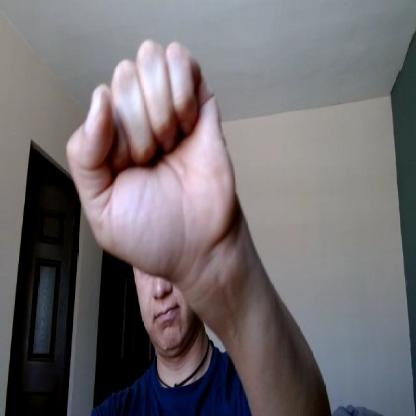S: (65, 33, 236, 276)
